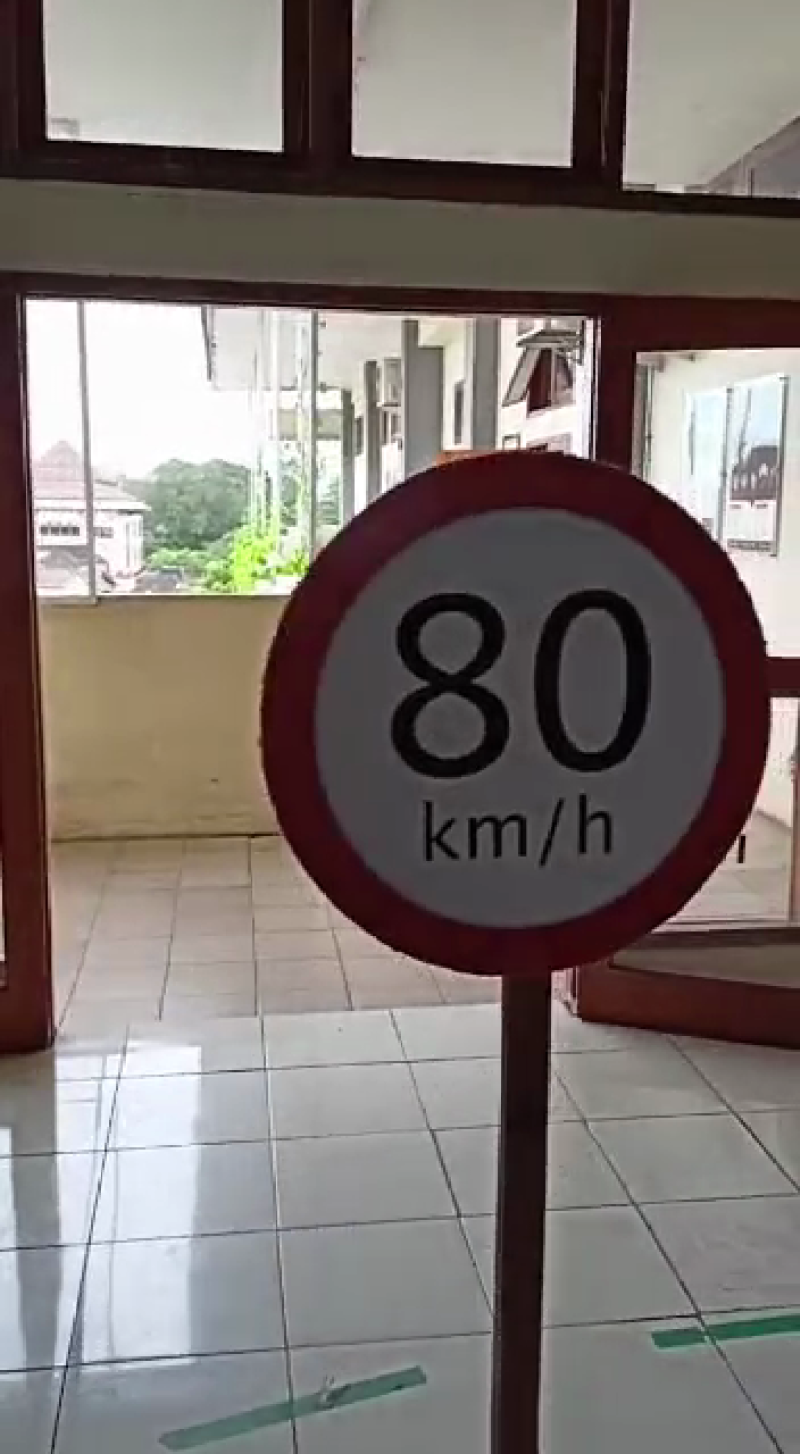batas maksimal 80kmperjam: (256, 428, 768, 996)
